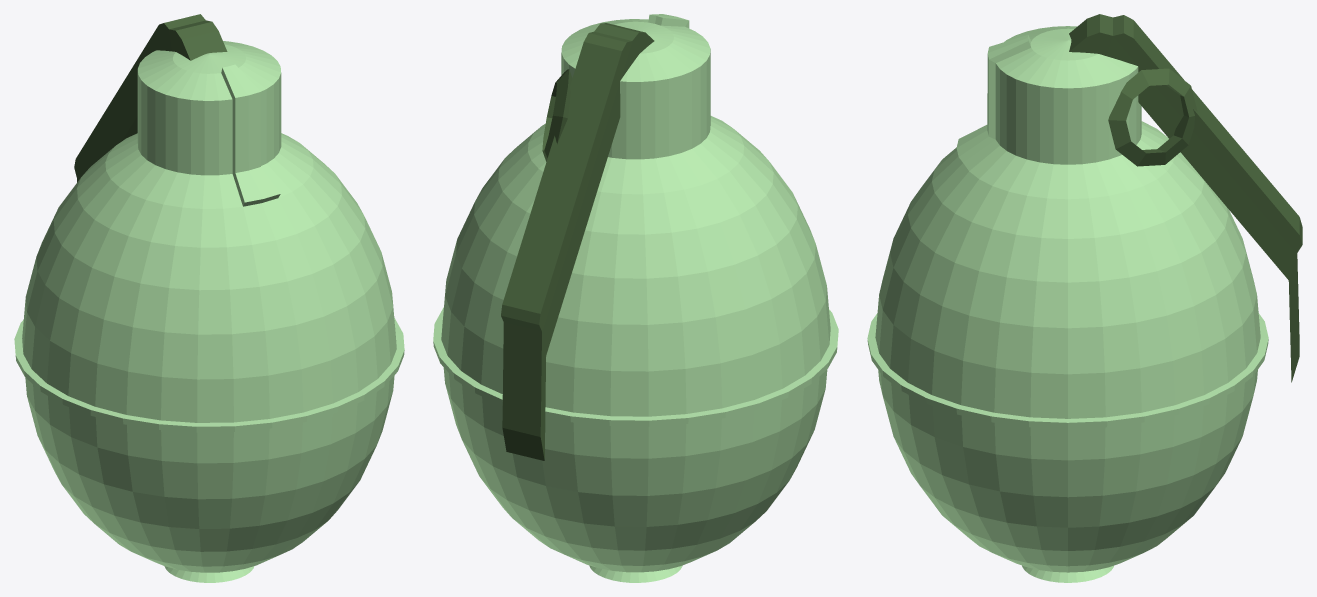
Rendered from Grenade.fbx.
3 renders of one model, left to right at view 1: azimuth 30°, elevation 25°; view 2: azimuth 150°, elevation 25°; view 3: azimuth 270°, elevation 25°, orthographic. The views are drawn at different scales.
Visible parts, largest first — view 1: Sphere, Cube; view 2: Sphere, Cube; view 3: Sphere, Cube.
Part boxes in pixels (box(x1,y1,x2,y2)): Sphere: box(14, 41, 404, 582); Cube: box(74, 14, 227, 182); Sphere: box(433, 14, 838, 582); Cube: box(501, 23, 654, 460); Sphere: box(867, 26, 1268, 582); Cube: box(1069, 14, 1302, 382).
Bounding box in the file's own units: 208 × 312 × 226.
